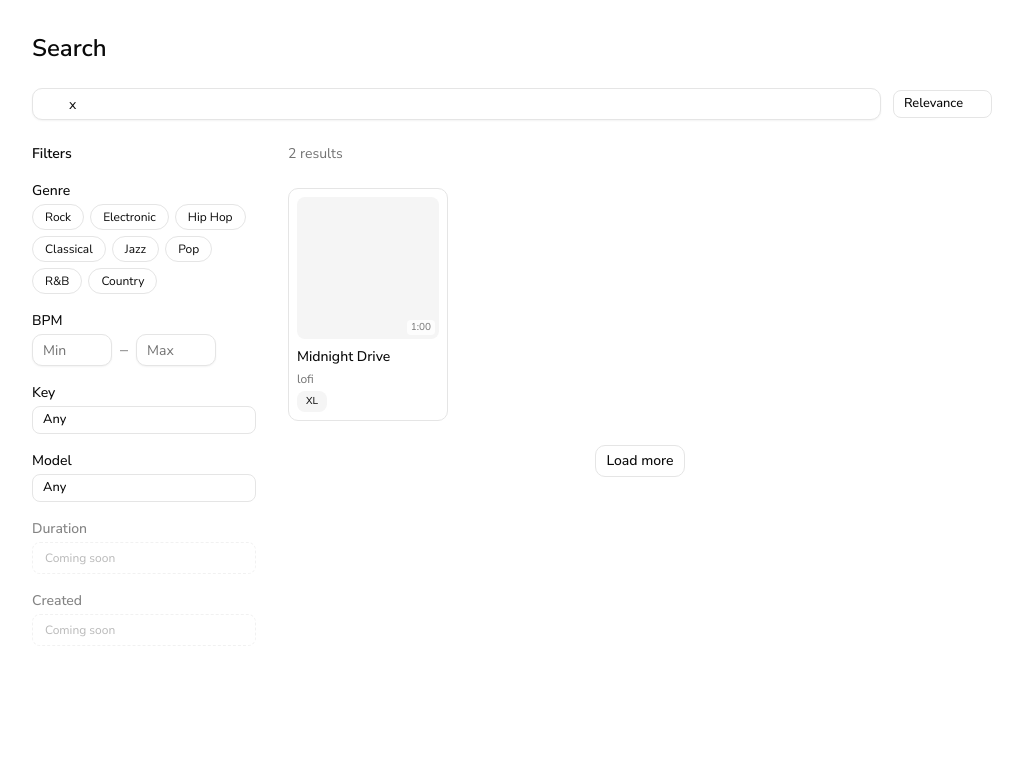
SearchView › appends the next page on Load more, and hides it on the last page
Step 1. Click the button "Load more" → (640, 461), box [595,445,685,477]
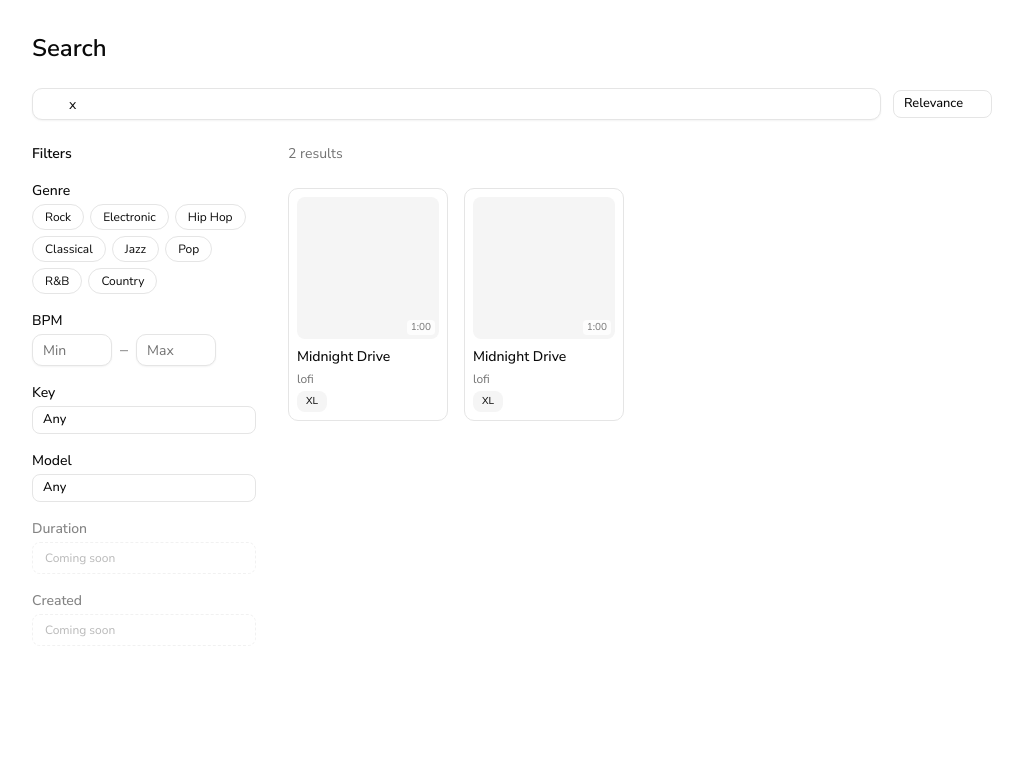
Now the number of links with test id "explore-clip-card" is 2, box [288,188,448,421]; [464,188,624,421]
Now the button "Load more" is gone
